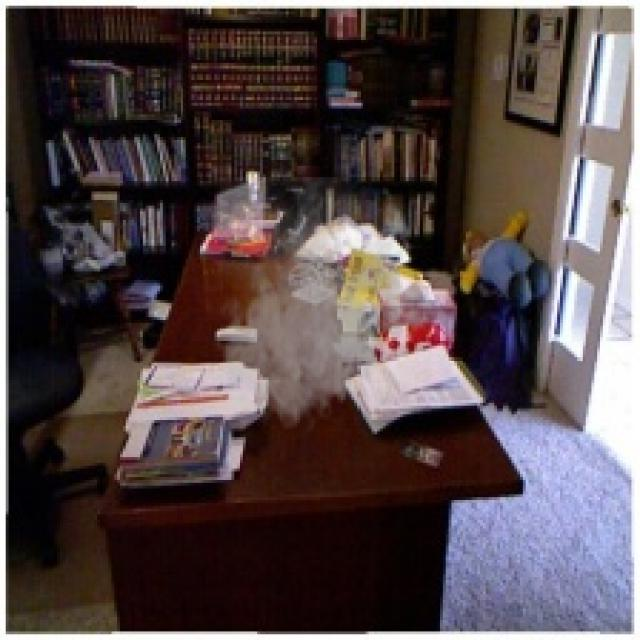smoke: (217, 177, 417, 437)
